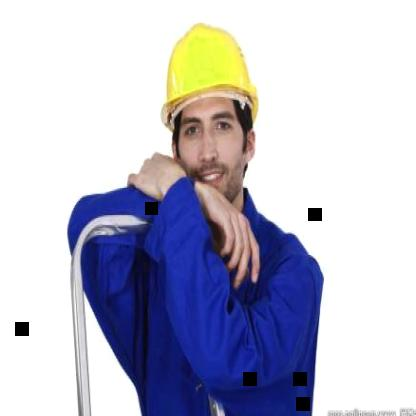helmet: (151, 9, 268, 210)
